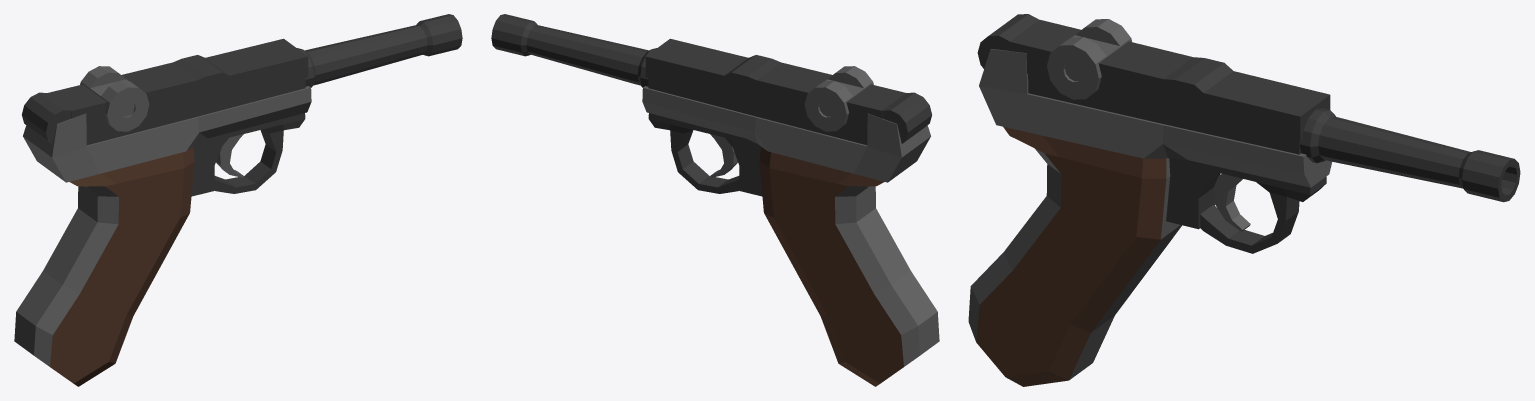
The model's file is WW1 Hangun 2.fbx.
3 views of the same model, side by side, from view 1: azimuth 30°, elevation 25°; view 2: azimuth 150°, elevation 25°; view 3: azimuth 330°, elevation 25° (orthographic). The views are drawn at different scales.
Parts seen in each view (by area): view 1: WW1 Hangun 2, Trigger; view 2: WW1 Hangun 2, Trigger; view 3: WW1 Hangun 2, Trigger.
Part boxes in pixels (box(x1,y1,x2,y2)): WW1 Hangun 2: box(14, 14, 462, 386); Trigger: box(216, 134, 243, 177); WW1 Hangun 2: box(491, 14, 939, 386); Trigger: box(710, 134, 737, 177); WW1 Hangun 2: box(968, 14, 1520, 386); Trigger: box(1213, 173, 1250, 231).
Bounding box in the file's own units: 203 × 132 × 24.
